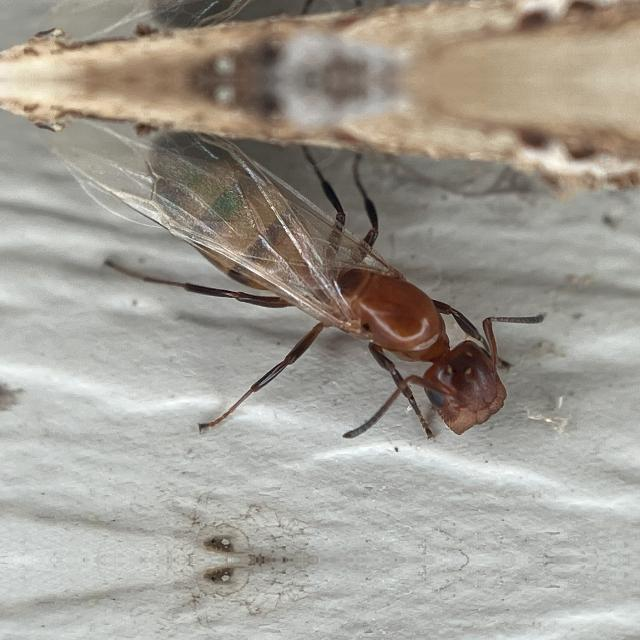Colobopsis: (79, 103, 543, 441)
